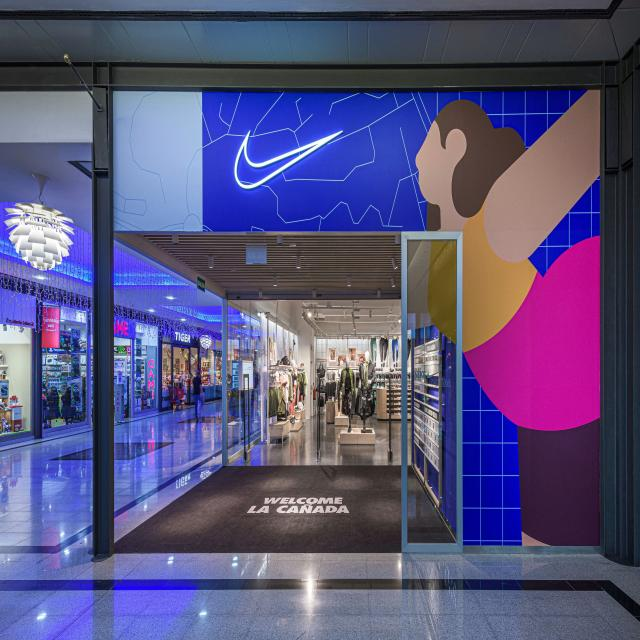nike: (230, 124, 350, 195)
